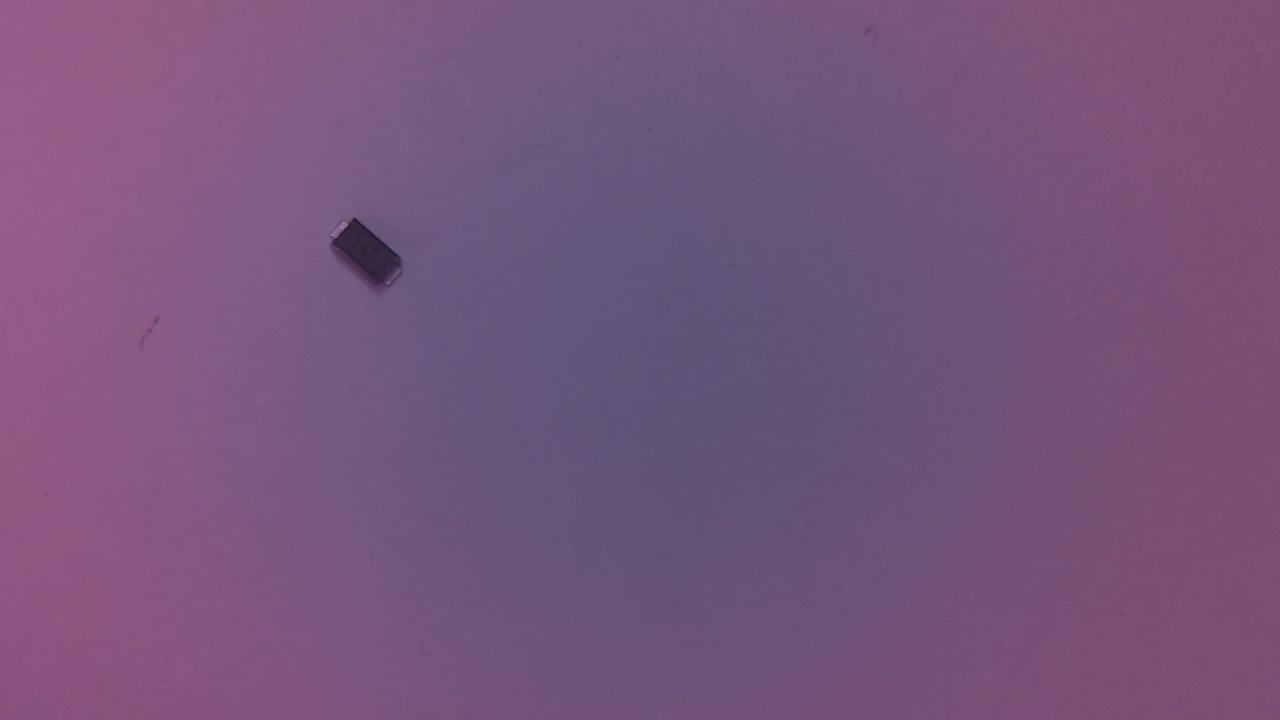Diode: (333, 218, 416, 294)
